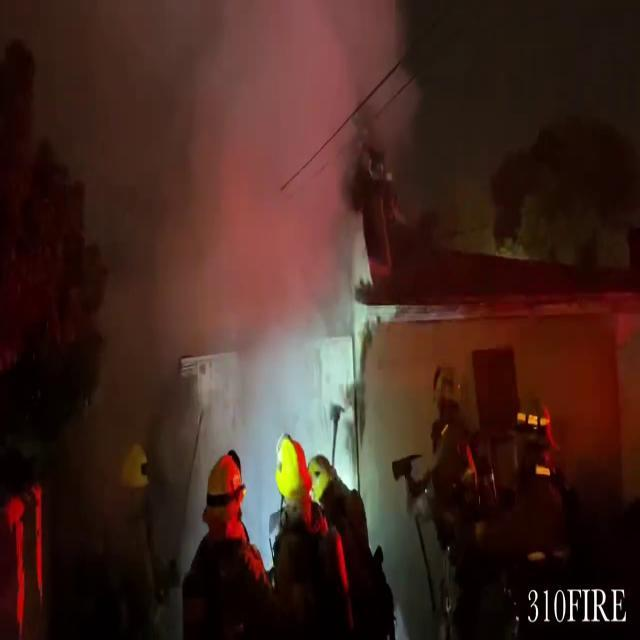Smoke: (1, 0, 427, 411)
